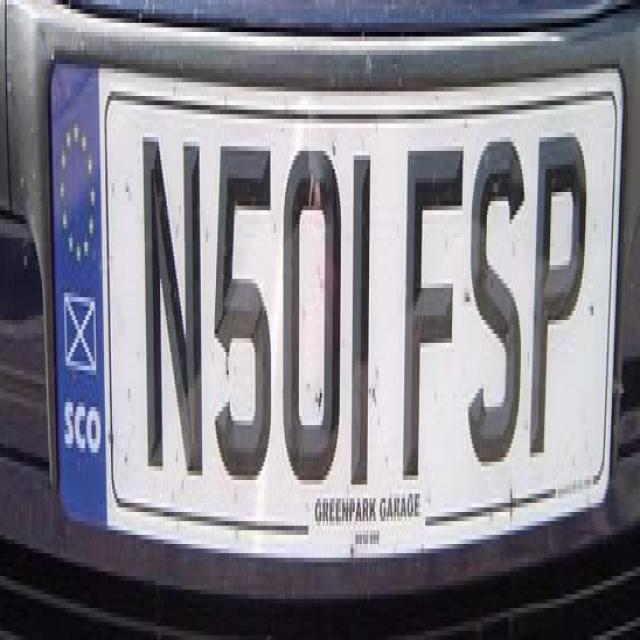Autre: (48, 61, 616, 510)
